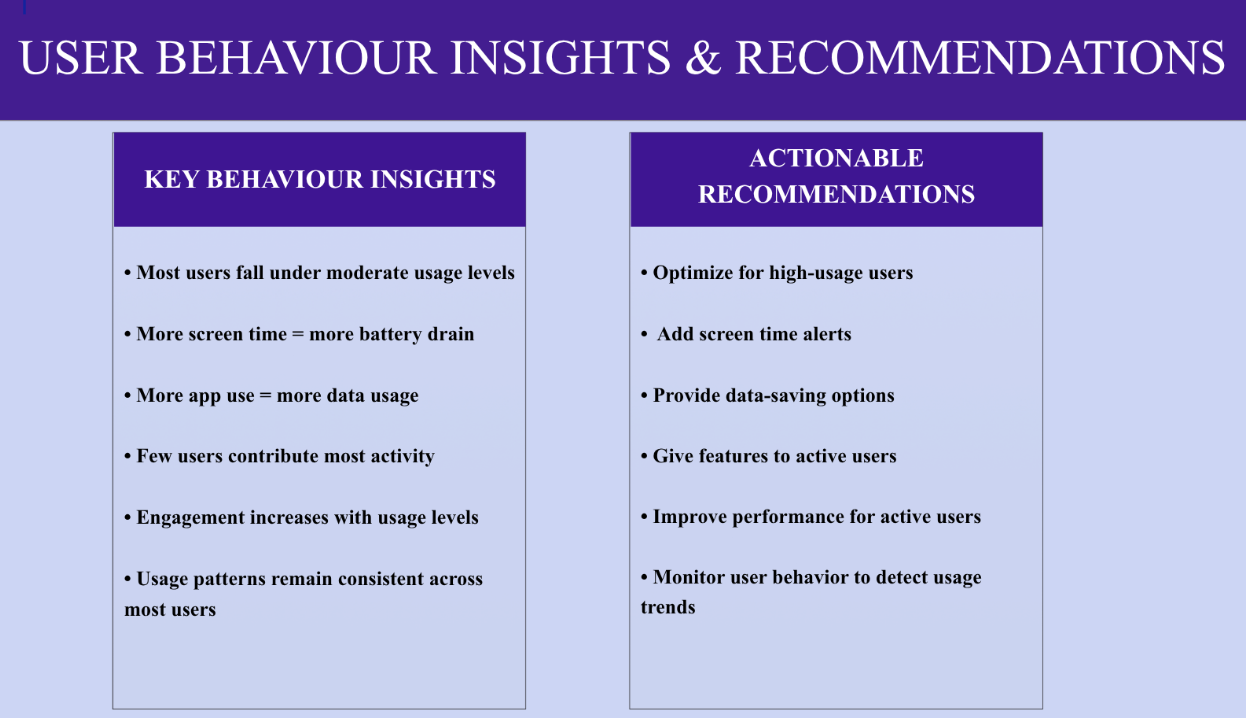

This screenshot's page, from the dashboard's own definition file:
{"tool":"powerbi","page":{"name":"Insights & Recommendations","canvas":[9999,5800],"ordinal":1},"visuals":[{"type":"textbox","box":[210,0,20,130],"z":0}]}

Visuals, with their boxes in screenshot pixels (x1, y1, x2, y2), scaled from the page's 9999x5800 canvas onto the 1246x718 screenshot:
textbox: (x1=26, y1=0, x2=29, y2=16)
